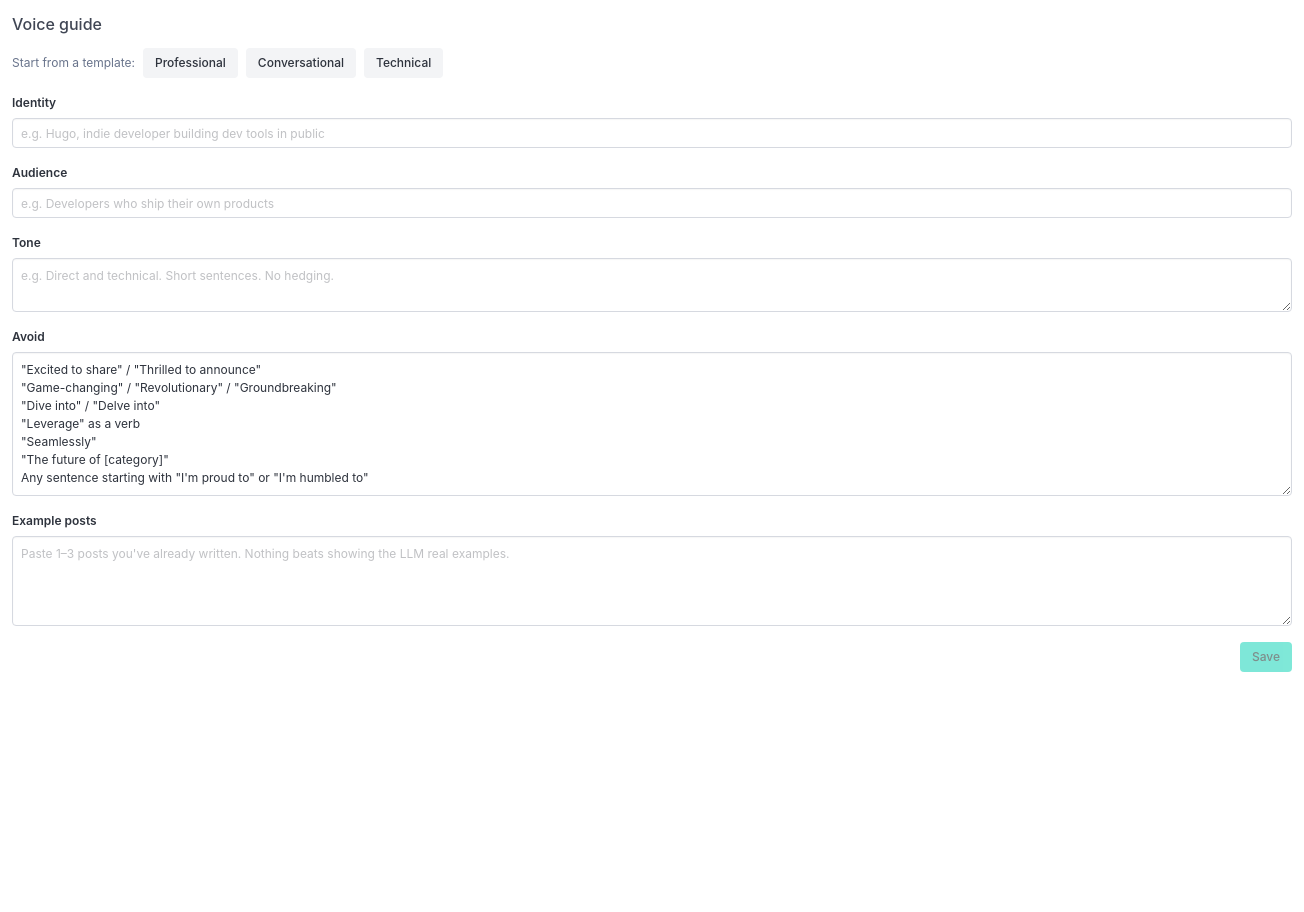
Test: VoiceGuideBlock — templates › clicking Technical fills the Tone field
Click the button "Technical": (404, 63) x1=364 y1=48 x2=443 y2=78
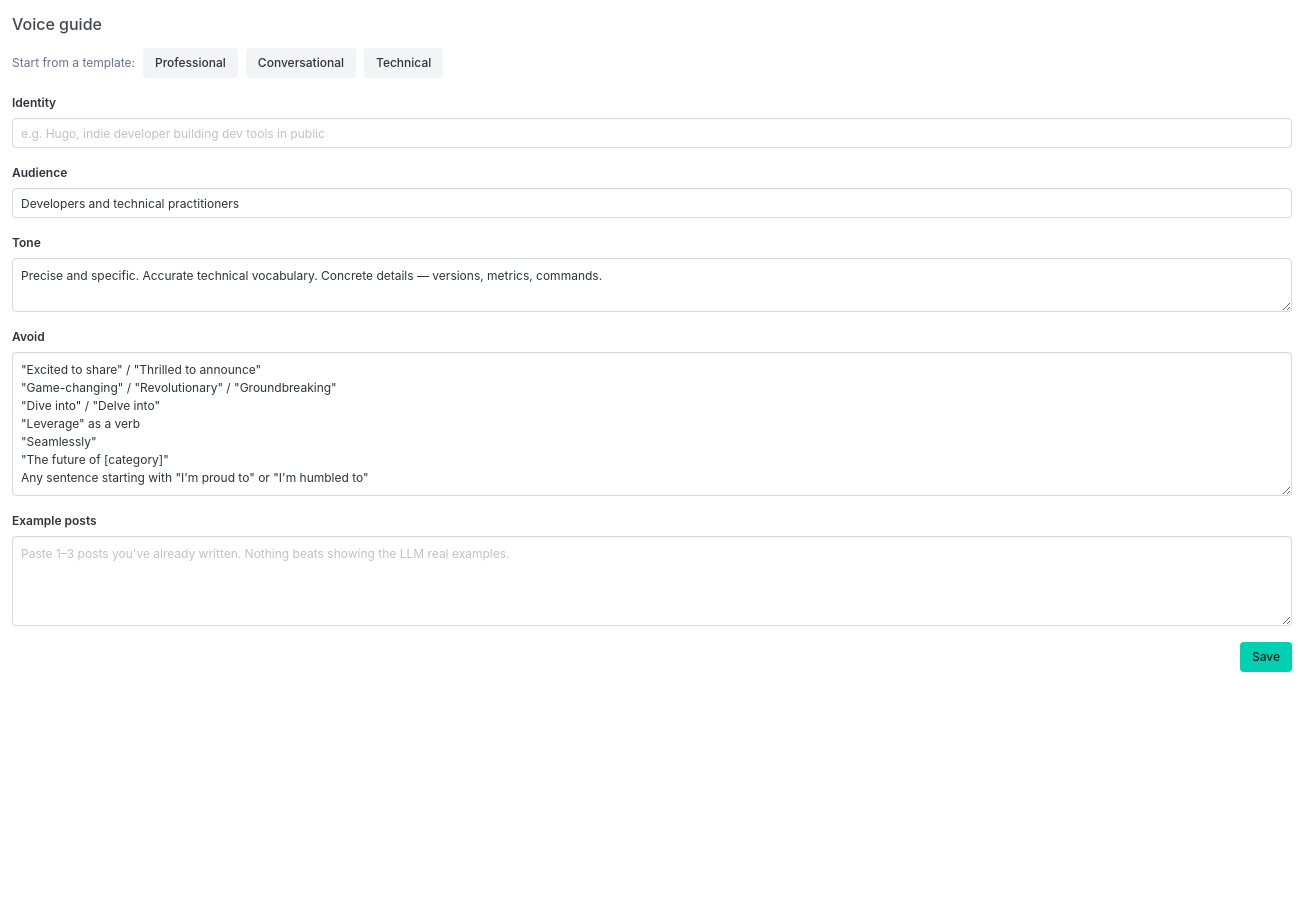
Now the text box labelled "Tone" is not empty, box x1=12 y1=258 x2=1292 y2=312
